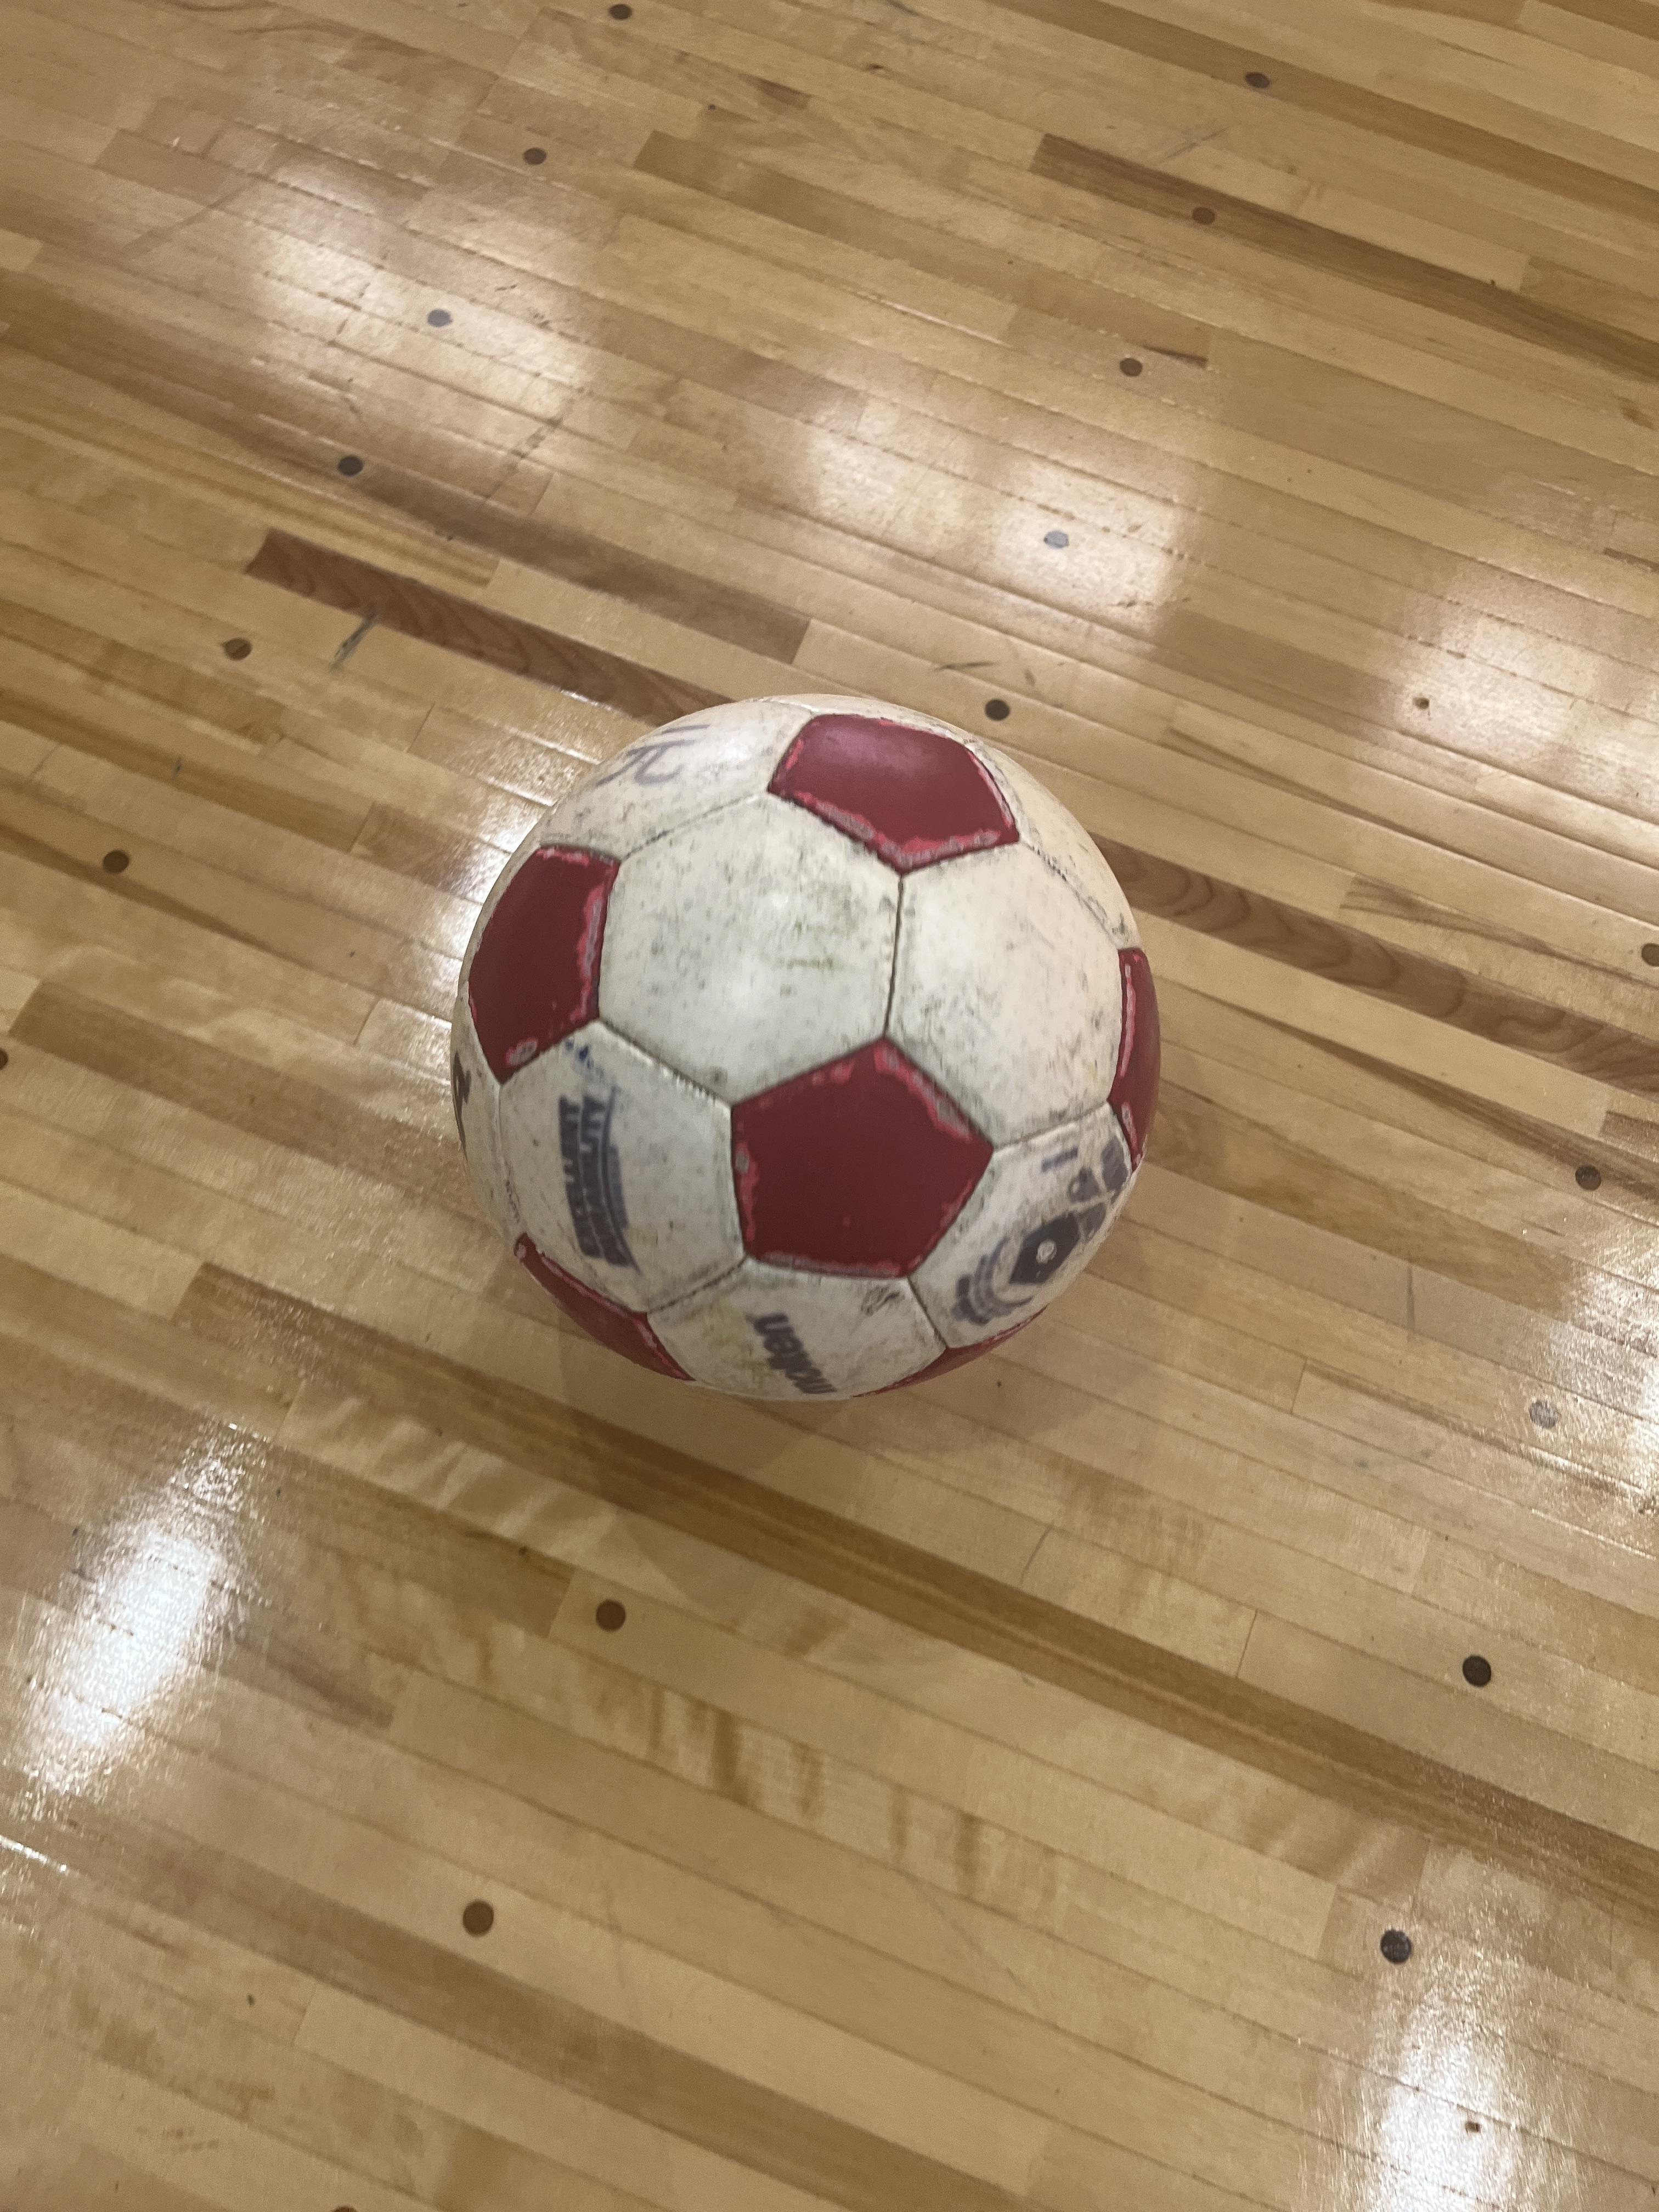Sports-Ball: (441, 686, 1155, 1430)
